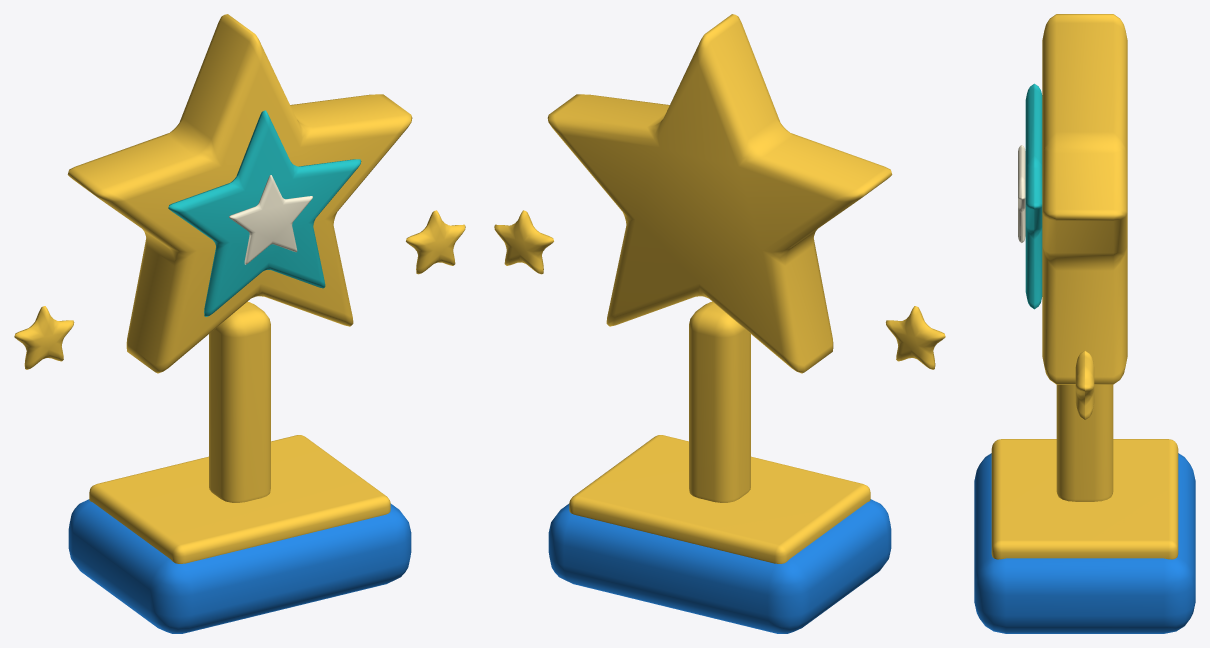
The model's file is star-trophy.glb.
3 views of the same model, side by side, from view 1: azimuth 30°, elevation 25°; view 2: azimuth 150°, elevation 25°; view 3: azimuth 270°, elevation 25° (orthographic). The views are drawn at different scales.
Parts seen in each view (by area): view 1: Gold award star, Trophy base, Base trim, Inset enamel star, Trophy stem, Ivory center, Award sparkle, Award sparkle.001; view 2: Gold award star, Trophy base, Base trim, Trophy stem, Award sparkle, Award sparkle.001; view 3: Gold award star, Trophy base, Base trim, Trophy stem, Inset enamel star, Award sparkle.001, Ivory center.
Part boxes in pixels (bbox=[...]): Gold award star: bbox=[67, 14, 412, 373]; Trophy base: bbox=[68, 499, 411, 633]; Base trim: bbox=[89, 435, 390, 563]; Inset enamel star: bbox=[168, 110, 361, 316]; Trophy stem: bbox=[209, 301, 270, 502]; Ivory center: bbox=[229, 175, 312, 264]; Award sparkle: bbox=[14, 306, 74, 369]; Award sparkle.001: bbox=[406, 210, 465, 274]; Gold award star: bbox=[547, 14, 892, 373]; Trophy base: bbox=[548, 499, 891, 633]; Base trim: bbox=[569, 435, 870, 563]; Trophy stem: bbox=[689, 301, 750, 502]; Award sparkle: bbox=[885, 306, 945, 369]; Award sparkle.001: bbox=[494, 210, 553, 274]; Gold award star: bbox=[1042, 14, 1127, 384]; Trophy base: bbox=[974, 453, 1195, 633]; Base trim: bbox=[991, 439, 1178, 559]; Trophy stem: bbox=[1056, 384, 1113, 501]; Inset enamel star: bbox=[1025, 83, 1042, 309]; Award sparkle.001: bbox=[1075, 350, 1094, 419]; Ivory center: bbox=[1018, 145, 1025, 242].
Bounding box in the file's own units: 1.68 × 1.97 × 0.7.
